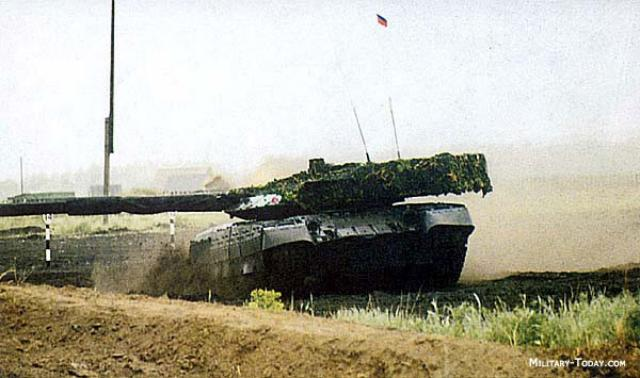tank: (175, 153, 481, 290)
